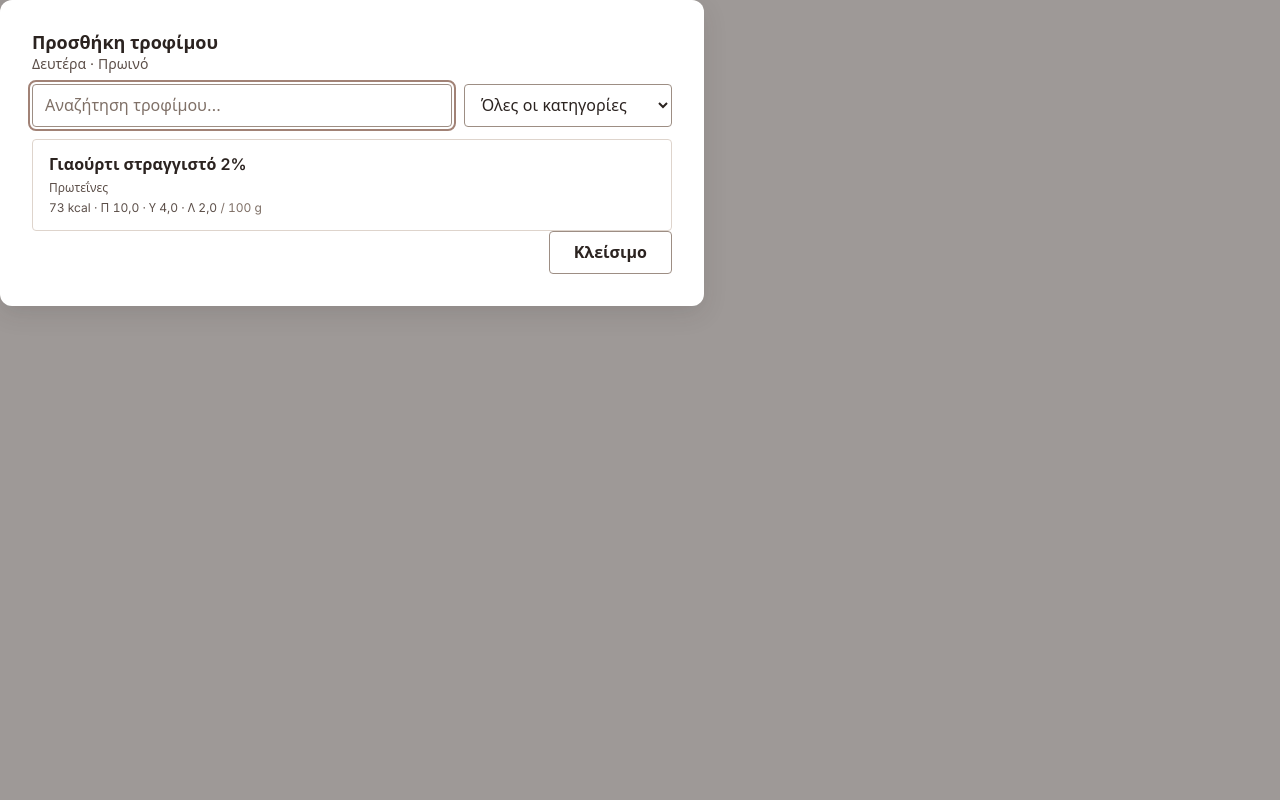
it: AddFoodDialog › should say what the unit is, when a food has no portions at all
Click the text "Γιαούρτι στραγγιστό 2%" at (148, 164), box [49, 154, 246, 174]
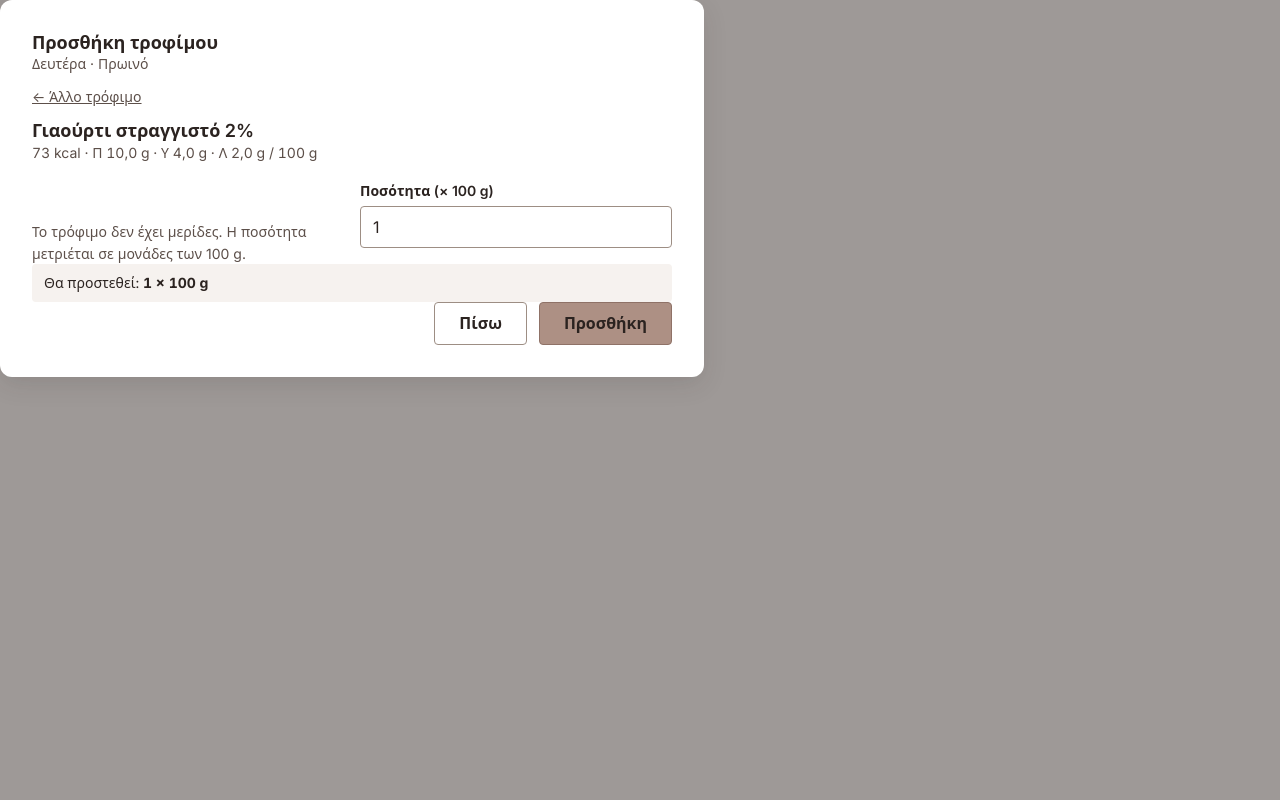
Expected: the number field labelled "Ποσότητα (× 100 g)" is shown, [360, 206, 672, 248]
